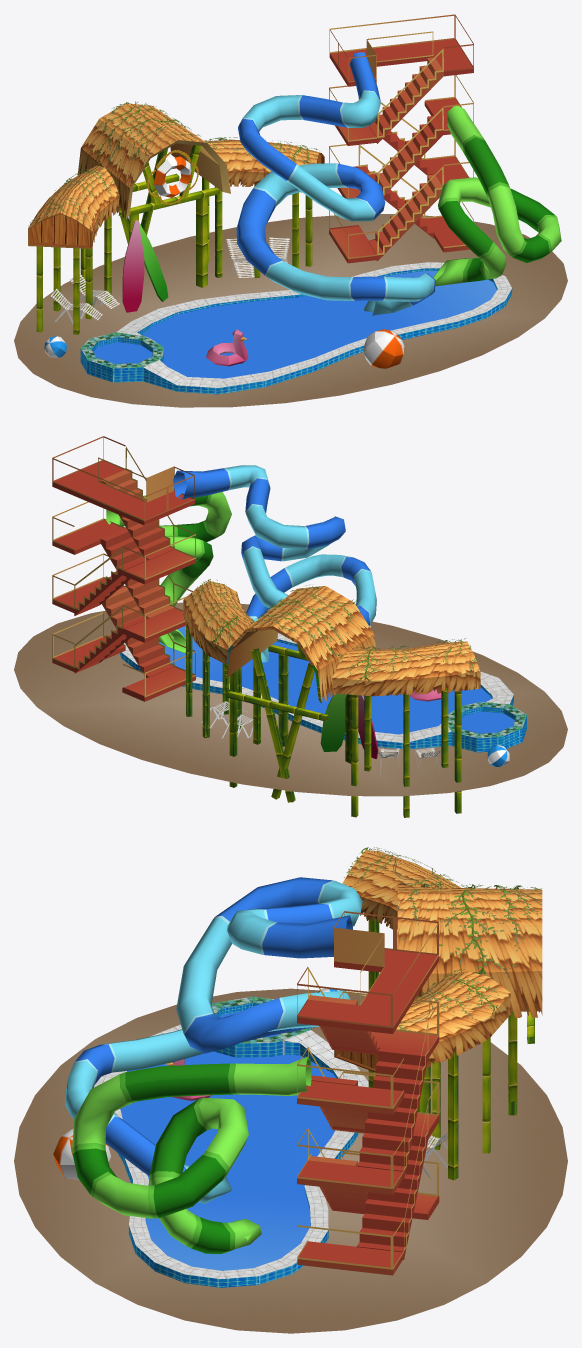
Rendered from pool_RRH.fbx.
3 views of the same model, one above another, from view 1: azimuth 30°, elevation 25°; view 2: azimuth 150°, elevation 25°; view 3: azimuth 270°, elevation 25° (orthographic). The views are drawn at different scales.
Parts seen in each view (by area): view 1: Circle.037, BézierCurve.002, Plane.021, Circle.035, Circle.002, BézierCurve.001, Cube.021, Cylinder.007, bord_PI.001, krug2.003, Cube.031, ball.003 (+15 smaller); view 2: Circle.037, Plane.021, BézierCurve.002, Cube.021, Cylinder.007, Circle.035, Circle.002, BézierCurve.001, Cube.033, liany_pool, Cube.032, Cube.028 (+9 smaller); view 3: Circle.037, Plane.021, BézierCurve.002, BézierCurve.001, Circle.035, Cylinder.007, Cube.021, Circle.002, liany_pool2, liany_pool, Cube.030, Cube.032 (+2 smaller).
Part boxes in pixels (bbox=[...]): Circle.037: bbox=[14, 214, 567, 407]; BézierCurve.002: bbox=[236, 52, 435, 315]; Plane.021: bbox=[329, 14, 473, 263]; Circle.035: bbox=[143, 271, 496, 378]; Circle.002: bbox=[80, 262, 512, 394]; BézierCurve.001: bbox=[433, 106, 561, 286]; Cube.021: bbox=[28, 139, 324, 248]; Cylinder.007: bbox=[77, 103, 230, 219]; bord_PI.001: bbox=[122, 220, 144, 312]; krug2.003: bbox=[147, 150, 198, 204]; Cube.031: bbox=[104, 186, 222, 304]; ball.003: bbox=[364, 329, 404, 368]; Circle.037: bbox=[14, 602, 567, 796]; Plane.021: bbox=[52, 436, 195, 701]; BézierCurve.002: bbox=[173, 465, 376, 662]; Cube.021: bbox=[183, 581, 480, 696]; Cylinder.007: bbox=[224, 586, 375, 703]; Circle.035: bbox=[159, 626, 491, 734]; Circle.002: bbox=[120, 633, 526, 752]; BézierCurve.001: bbox=[106, 492, 231, 653]; Cube.033: bbox=[251, 648, 314, 802]; liany_pool: bbox=[187, 579, 479, 690]; Cube.032: bbox=[229, 671, 358, 817]; Cube.028: bbox=[186, 622, 461, 813]; Circle.037: bbox=[14, 988, 567, 1333]; Plane.021: bbox=[297, 911, 439, 1275]; BézierCurve.002: bbox=[65, 877, 362, 1203]; BézierCurve.001: bbox=[72, 1056, 311, 1253]; Circle.035: bbox=[120, 1051, 335, 1270]; Cylinder.007: bbox=[397, 886, 542, 1017]; Cube.021: bbox=[334, 850, 510, 1072]; Circle.002: bbox=[94, 996, 368, 1287]; liany_pool2: bbox=[397, 883, 542, 988]; liany_pool: bbox=[344, 847, 498, 1034]; Cube.030: bbox=[448, 1051, 458, 1180]; Cube.032: bbox=[482, 1037, 490, 1153].
Size of the model in its own units: 1055 by 493 by 716.
